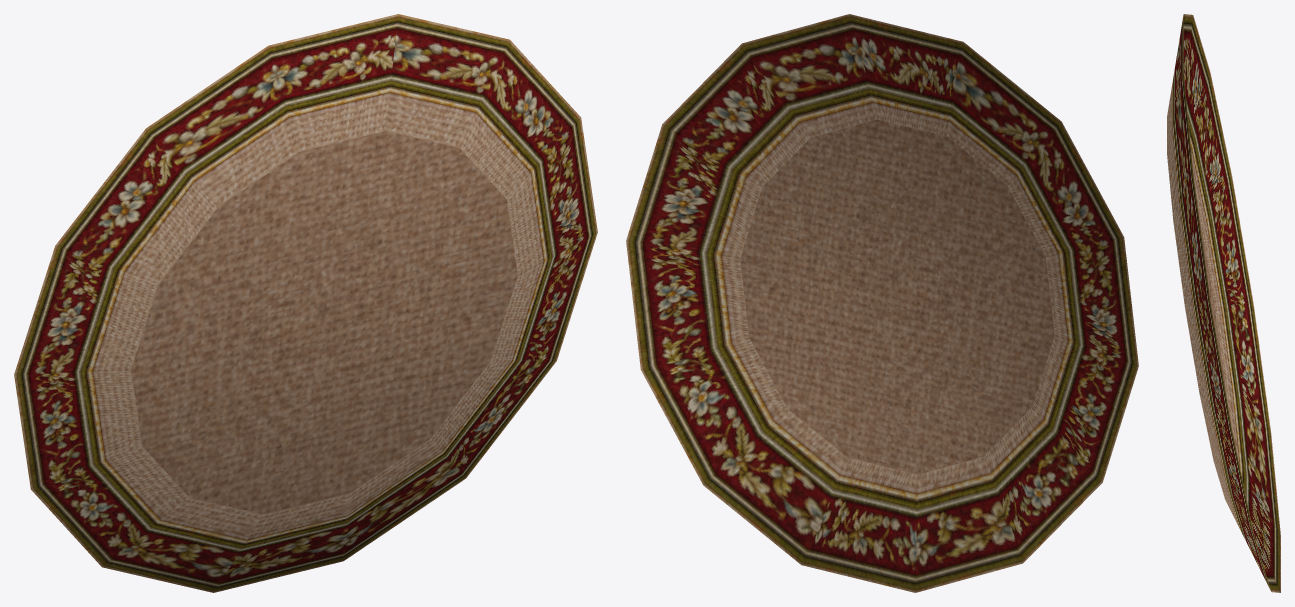
Rendered from mm9_deco_plate1p80.glb.
The picture shows the model from 3 angles, left to right: view 1: azimuth 30°, elevation 25°; view 2: azimuth 150°, elevation 25°; view 3: azimuth 270°, elevation 25°; orthographic projection. The views are drawn at different scales.
Parts seen in each view (by area): view 1: Plate1p80; view 2: Plate1p80; view 3: Plate1p80.
Part boxes in pixels (x1,y1,x2,y2): Plate1p80: [14, 14, 597, 592]; Plate1p80: [626, 14, 1138, 592]; Plate1p80: [1167, 14, 1280, 592].
Bounding box in the file's own units: 0.4976 × 0.4783 × 0.0945.
Materials: 1 (1 with a texture image).
